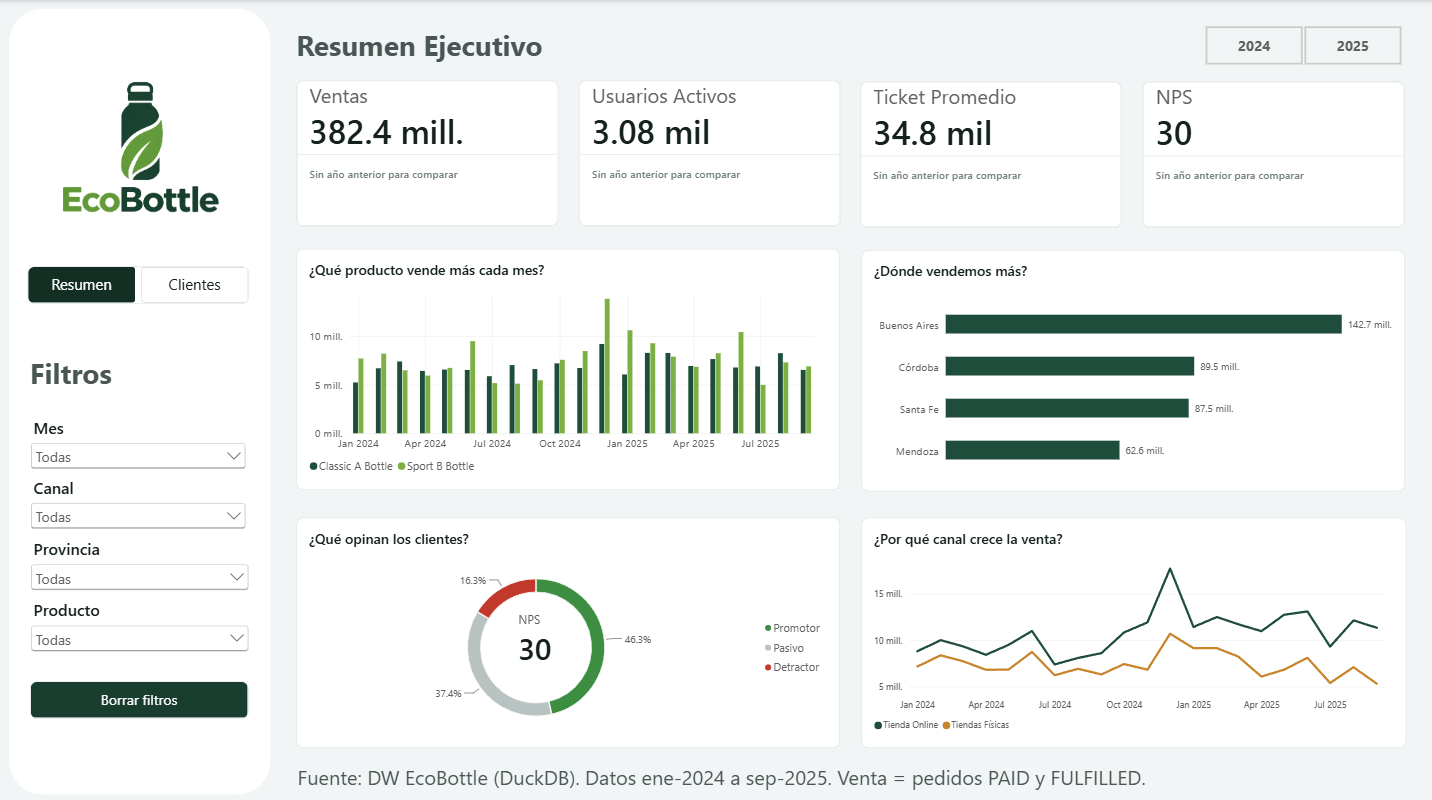

What the dashboard file says about the page in this screenshot:
{"tool":"powerbi","page":{"name":"Resumen","canvas":[1920,1080],"ordinal":0},"visuals":[{"type":"cardVisual","fields":{"Data":["fact_sales_order.Ventas"]},"box":[396,107.6,350,196],"z":0},{"type":"cardVisual","fields":{"Data":["fact_web_session.Usuarios Activos"]},"box":[772.7,107.3,350,196],"z":1000},{"type":"cardVisual","fields":{"Data":["fact_sales_order.Ticket Promedio"]},"box":[1149.3,107.8,350,196],"z":2000},{"type":"cardVisual","fields":{"Data":["fact_nps_response.NPS"]},"box":[1526,108,350,196],"z":3000},{"type":"shape","box":[12.5,12.5,350,1050],"z":4000},{"type":"image","box":[40,42.5,295,312.5],"z":5000},{"type":"textbox","box":[40,472.5,160,65],"z":6000},{"type":"pageNavigator","box":[36,356,296,50],"z":7000},{"type":"slicer","fields":{"Values":["dim_date.month_name"]},"box":[36,556,296,80],"z":8000},{"type":"slicer","fields":{"Values":["dim_channel.name"]},"box":[36,636,296,82],"z":9000},{"type":"slicer","fields":{"Values":["dim_province.name"]},"box":[36,718,300,82],"z":10000},{"type":"slicer","fields":{"Values":["dim_product.name"]},"box":[36,800,300,110],"z":11000},{"type":"actionButton","box":[40,910,292,50],"z":12000},{"type":"textbox","box":[396,35.1,372,66],"z":13000},{"type":"clusteredColumnChart","title":"¿Qué producto vende más cada mes?","fields":{"Category":["dim_date.month_start"],"Series":["dim_product.name"],"Y":["fact_sales_order_item.Ventas Producto"]},"box":[396,333.1,726,322],"z":14000},{"type":"clusteredBarChart","title":"¿Dónde vendemos más?","fields":{"Category":["dim_province.name"],"Y":["fact_sales_order.Ventas"]},"box":[1150,334,726,322],"z":15000},{"type":"donutChart","title":"¿Qué opinan los clientes?","fields":{"Category":["fact_nps_response.nps_group"],"Y":["CountNonNull(fact_nps_response.nps_id)"]},"box":[396,691.1,726,308],"z":16000},{"type":"lineChart","title":"¿Por qué canal crece la venta?","fields":{"Category":["dim_date.month_start"],"Series":["dim_channel.name"],"Y":["fact_sales_order.Ventas"]},"box":[1150,691.1,728,308],"z":17000},{"type":"cardVisual","fields":{"Data":["fact_nps_response.NPS"]},"box":[676.4,774.5,162,160],"z":18000},{"type":"textbox","box":[398,1020,1224,54],"z":19000},{"type":"slicer","fields":{"Values":["dim_date.year"]},"box":[1590.9,34.5,300,50.9],"z":20000}]}

Visuals, with their boxes in screenshot pixels (x1, y1, x2, y2), scaled from the page's 1920x1080 canvas onto the 1432x800 screenshot:
cardVisual - fact_sales_order.Ventas: BBox(295, 80, 556, 225)
cardVisual - fact_web_session.Usuarios Activos: BBox(576, 79, 837, 225)
cardVisual - fact_sales_order.Ticket Promedio: BBox(857, 80, 1118, 225)
cardVisual - fact_nps_response.NPS: BBox(1138, 80, 1399, 225)
shape: BBox(9, 9, 270, 787)
image: BBox(30, 31, 250, 263)
textbox: BBox(30, 350, 149, 398)
pageNavigator: BBox(27, 264, 248, 301)
slicer - dim_date.month_name: BBox(27, 412, 248, 471)
slicer - dim_channel.name: BBox(27, 471, 248, 532)
slicer - dim_province.name: BBox(27, 532, 251, 593)
slicer - dim_product.name: BBox(27, 593, 251, 674)
actionButton: BBox(30, 674, 248, 711)
textbox: BBox(295, 26, 573, 75)
"¿Qué producto vende más cada mes?" clusteredColumnChart: BBox(295, 247, 837, 485)
"¿Dónde vendemos más?" clusteredBarChart: BBox(858, 247, 1399, 486)
"¿Qué opinan los clientes?" donutChart: BBox(295, 512, 837, 740)
"¿Por qué canal crece la venta?" lineChart: BBox(858, 512, 1401, 740)
cardVisual - fact_nps_response.NPS: BBox(504, 574, 625, 692)
textbox: BBox(297, 756, 1210, 796)
slicer - dim_date.year: BBox(1187, 26, 1410, 63)
